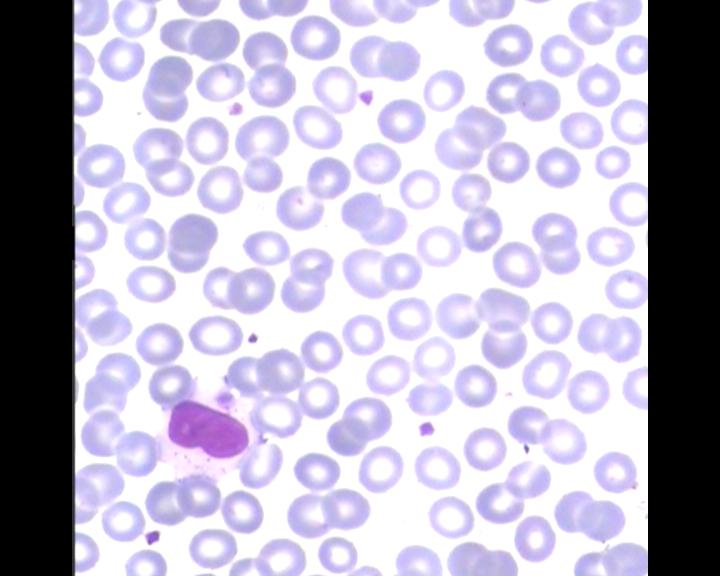mono: (154, 371, 260, 485)
